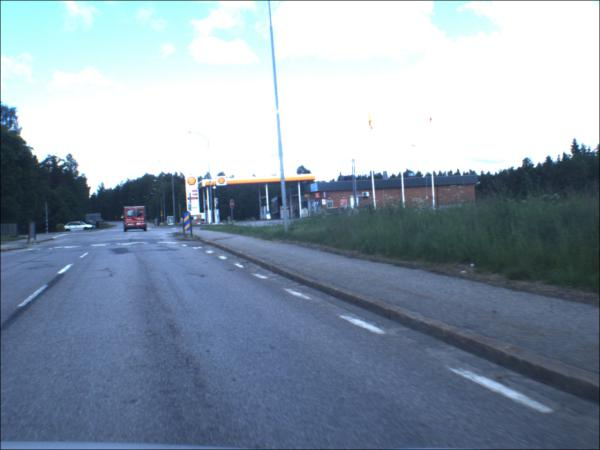50_SIGN: (161, 212, 165, 215)
PRIORITY_ROAD: (162, 215, 165, 218)
STOP: (232, 201, 237, 211)
